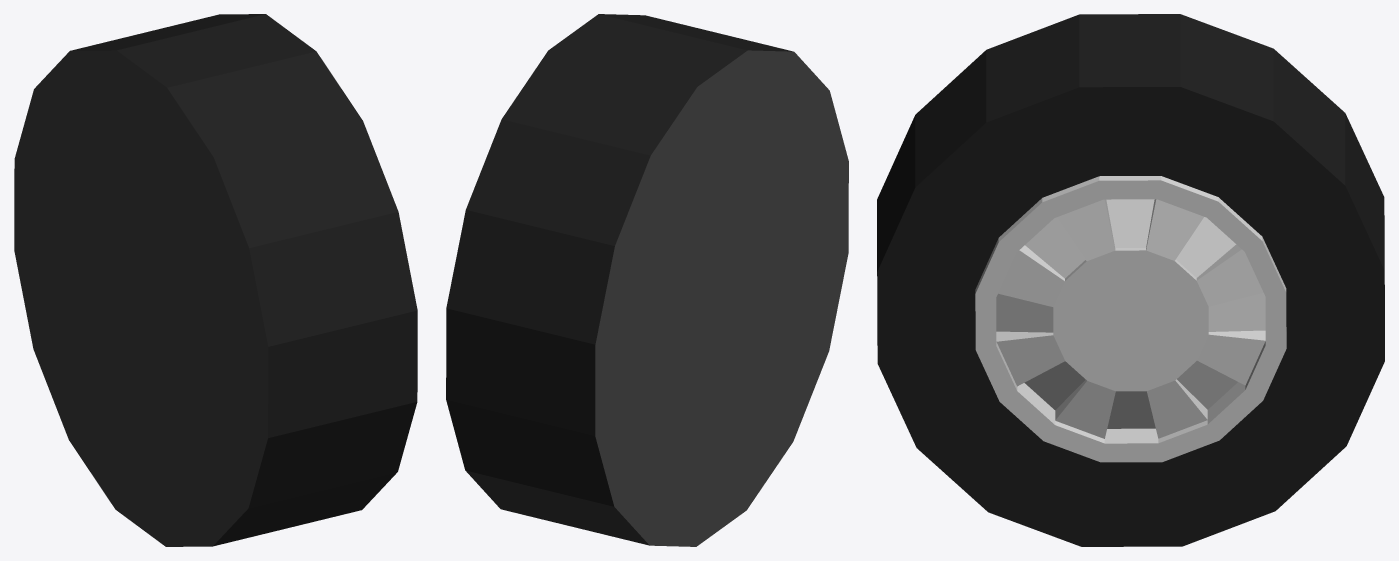
The model's file is VehicleTyreFront.fbx.
3 views of the same model, side by side, from view 1: azimuth 30°, elevation 25°; view 2: azimuth 150°, elevation 25°; view 3: azimuth 270°, elevation 25° (orthographic).
Visible parts, largest first — view 1: VehicleTyreFront; view 2: VehicleTyreFront; view 3: VehicleTyreFront.
Part boxes in pixels (bbox=[...]): VehicleTyreFront: bbox=[14, 14, 417, 546]; VehicleTyreFront: bbox=[446, 14, 848, 546]; VehicleTyreFront: bbox=[877, 14, 1384, 546].
Bounding box in the file's own units: 41.4 × 115 × 115.
